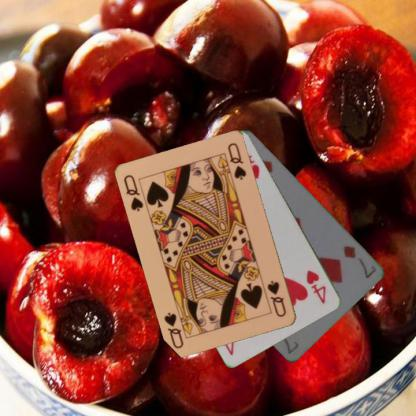4h: (304, 268, 328, 306)
7d: (342, 243, 378, 280)
Qs: (121, 172, 145, 213), (264, 278, 288, 318)
